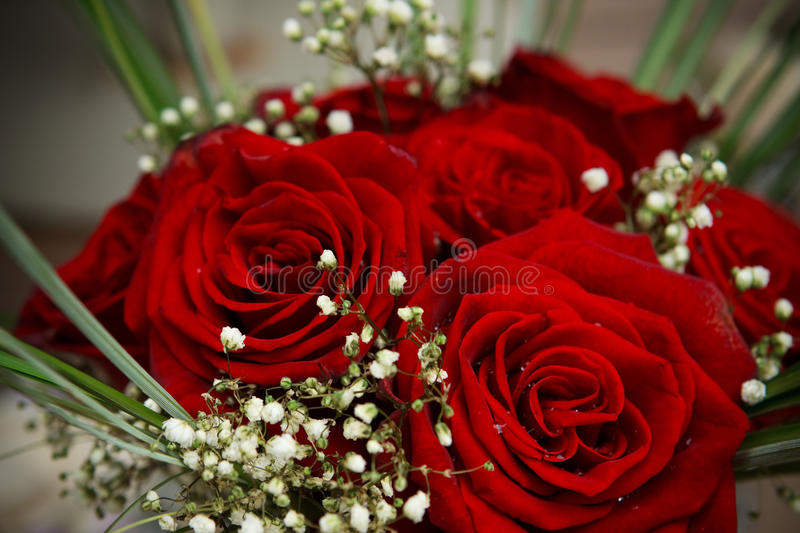RedRose: (427, 237, 696, 512), (134, 155, 399, 397), (412, 106, 603, 224), (491, 63, 718, 162), (670, 181, 793, 329)
